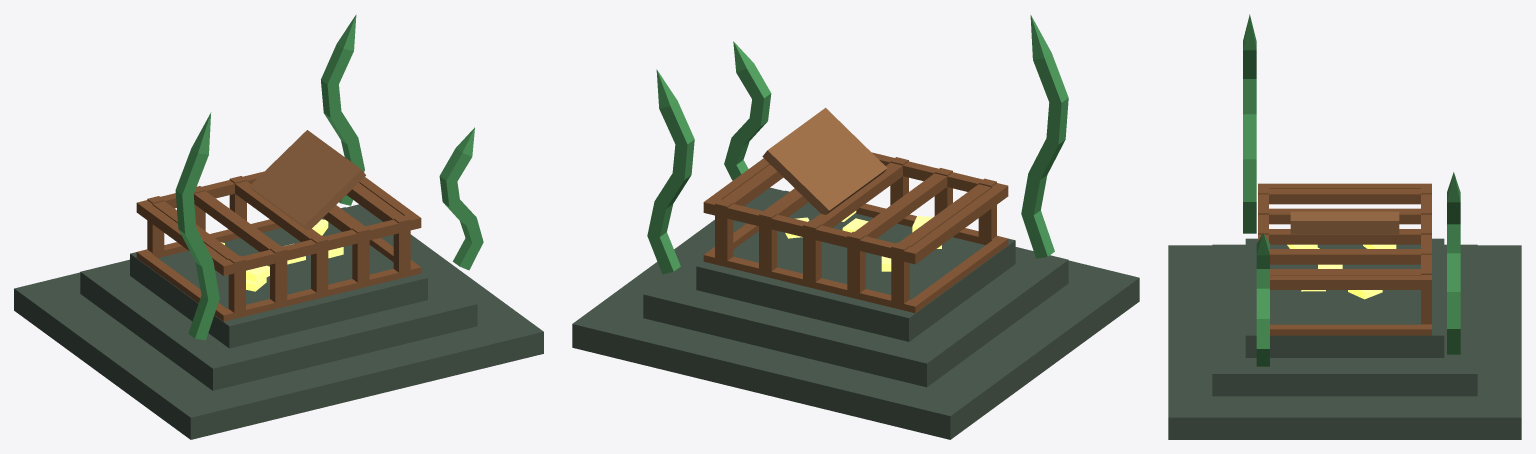
File: CACHE_KELP.glb
The picture shows the model from 3 angles, left to right: view 1: azimuth 30°, elevation 25°; view 2: azimuth 150°, elevation 25°; view 3: azimuth 270°, elevation 25°; orthographic projection. The views are drawn at different scales.
Parts seen in each view (by area): view 1: CACHE_KELP_Main, CACHE_KELP_Accent, CACHE_KELP_Trim, CACHE_KELP_Lid, CACHE_KELP_Glow; view 2: CACHE_KELP_Main, CACHE_KELP_Accent, CACHE_KELP_Trim, CACHE_KELP_Lid, CACHE_KELP_Glow; view 3: CACHE_KELP_Main, CACHE_KELP_Accent, CACHE_KELP_Trim, CACHE_KELP_Lid, CACHE_KELP_Glow.
Boxes of the visible parts, x1=… form: CACHE_KELP_Main: x1=14, y1=204, x2=543, y2=439; CACHE_KELP_Accent: x1=136, y1=171, x2=421, y2=321; CACHE_KELP_Trim: x1=175, y1=14, x2=483, y2=340; CACHE_KELP_Lid: x1=249, y1=130, x2=365, y2=229; CACHE_KELP_Glow: x1=221, y1=219, x2=343, y2=291; CACHE_KELP_Main: x1=572, y1=187, x2=1139, y2=439; CACHE_KELP_Accent: x1=703, y1=152, x2=1008, y2=312; CACHE_KELP_Trim: x1=647, y1=15, x2=1068, y2=274; CACHE_KELP_Lid: x1=762, y1=107, x2=887, y2=214; CACHE_KELP_Glow: x1=785, y1=211, x2=941, y2=271; CACHE_KELP_Main: x1=1168, y1=238, x2=1521, y2=439; CACHE_KELP_Accent: x1=1258, y1=183, x2=1431, y2=335; CACHE_KELP_Trim: x1=1243, y1=14, x2=1460, y2=366; CACHE_KELP_Lid: x1=1290, y1=211, x2=1399, y2=234; CACHE_KELP_Glow: x1=1287, y1=244, x2=1396, y2=299.
Bounding box in the file's own units: 3 × 2.3 × 2.6.
